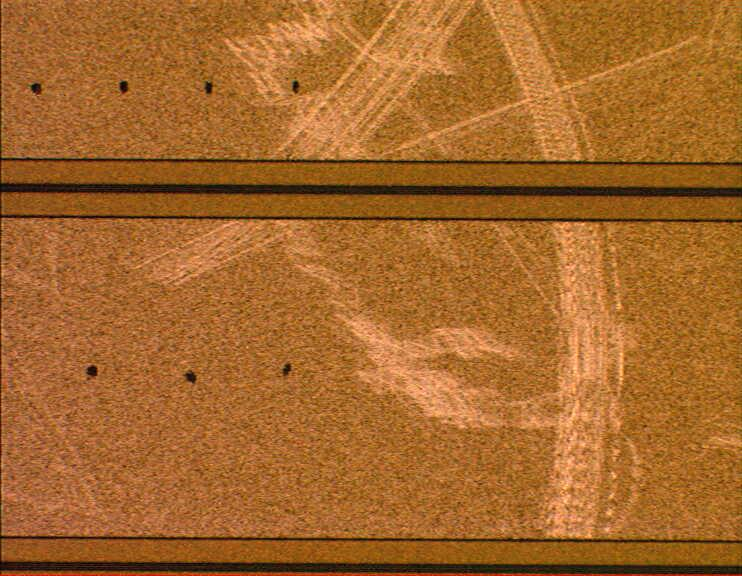SCRATCH: (120, 1, 722, 558)
